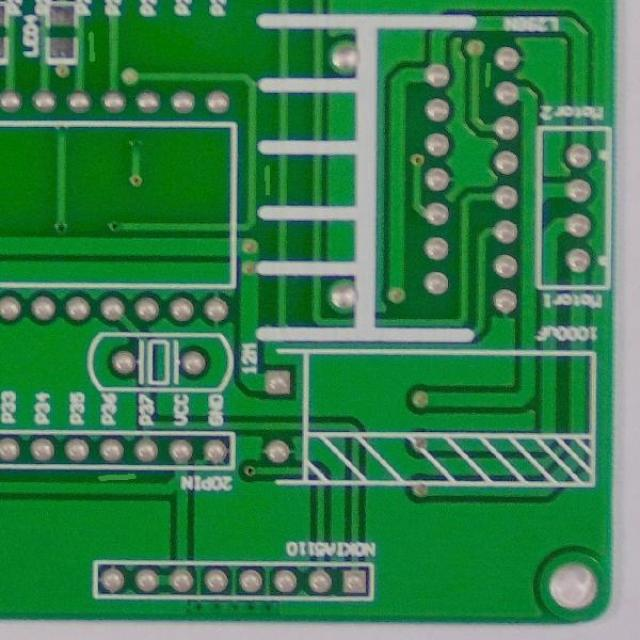spurious_copper: (91, 466, 145, 492), (476, 51, 502, 93), (257, 159, 280, 202), (82, 28, 106, 66)
